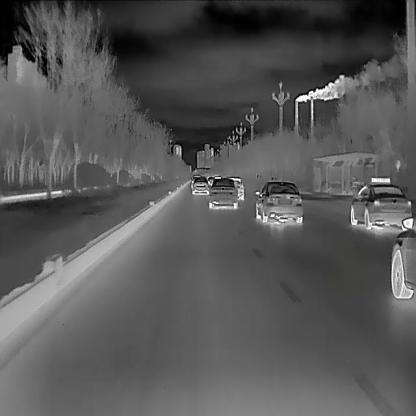car: (350, 176, 412, 230), (390, 215, 415, 300), (255, 180, 303, 224), (206, 179, 238, 208), (226, 176, 243, 200), (191, 178, 208, 195)
